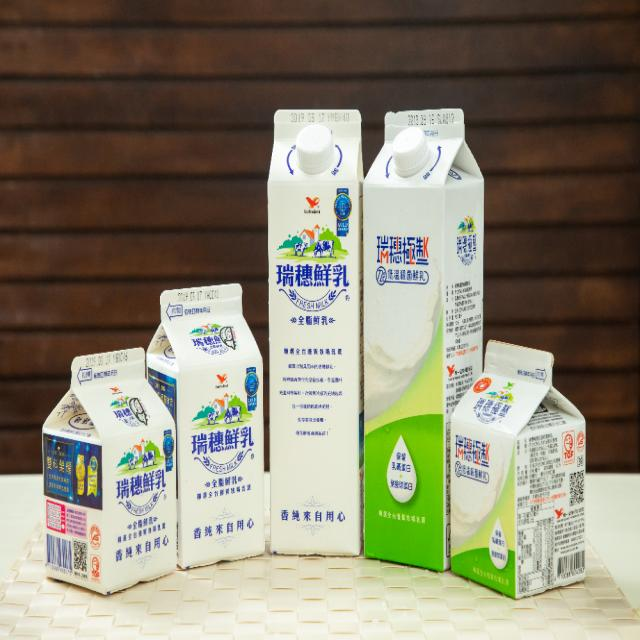non_white_jug: (357, 97, 483, 574), (257, 91, 364, 561), (443, 312, 595, 600), (28, 340, 179, 590), (151, 270, 276, 568)
